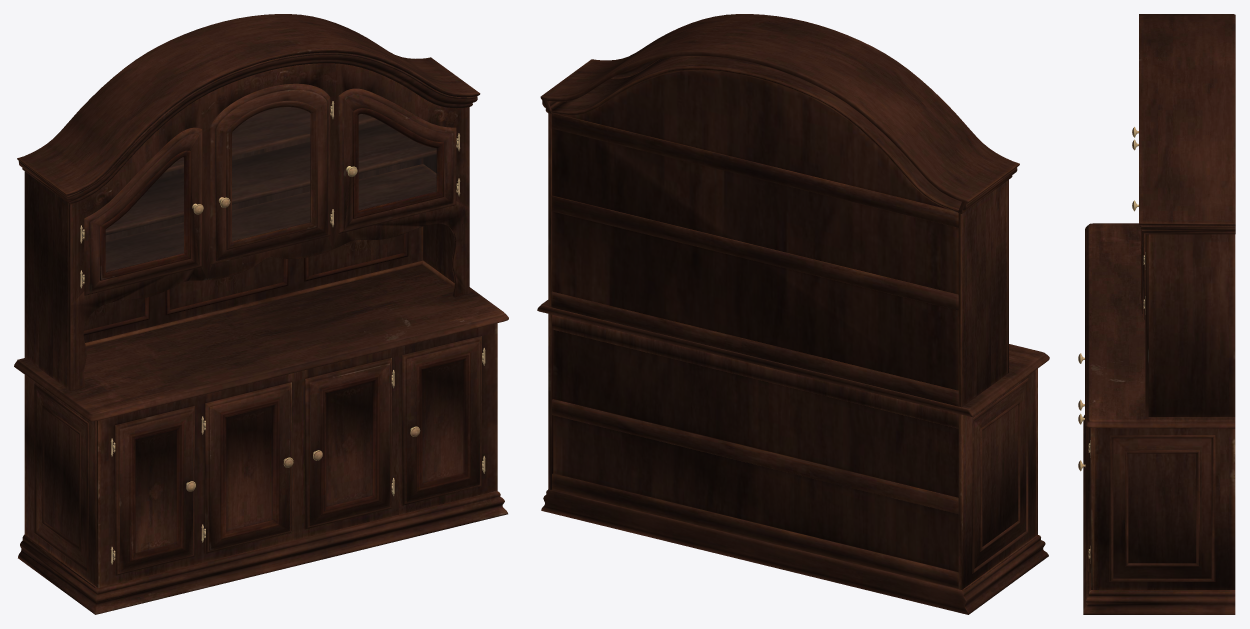
Rendered from cabinet.glb.
The picture shows the model from 3 angles, left to right: view 1: azimuth 30°, elevation 25°; view 2: azimuth 150°, elevation 25°; view 3: azimuth 270°, elevation 25°; orthographic projection. The views are drawn at different scales.
Parts seen in each view (by area): view 1: cabinet.001; view 2: cabinet.001; view 3: cabinet.001.
Part boxes in pixels (x1,y1,x2,y2): cabinet.001: (14, 14, 508, 614); cabinet.001: (537, 14, 1049, 614); cabinet.001: (1078, 14, 1235, 614).
Size of the model in its own units: 1.72 by 1.9 by 0.5694.
3 materials, 2 textured.
